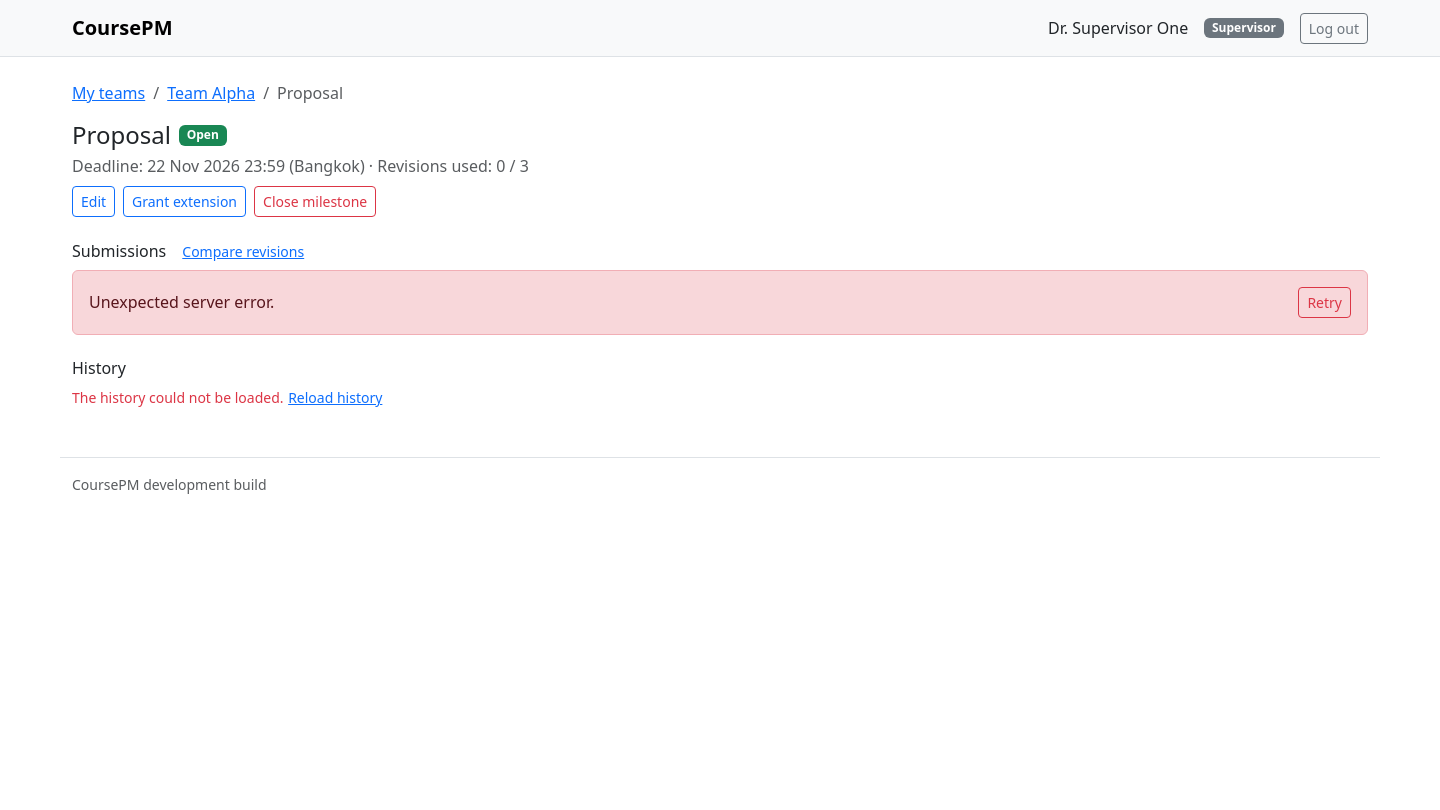
Test case: TEST-UI-04 submission part (AC-02-10): revision list states › shows an error with Retry, and Retry loads the revisions again
Expected: the message shows "Unexpected server error.", [89,291,274,313]
Click the button "Retry". click: (1325, 302)
box: [1298,287,1351,318]
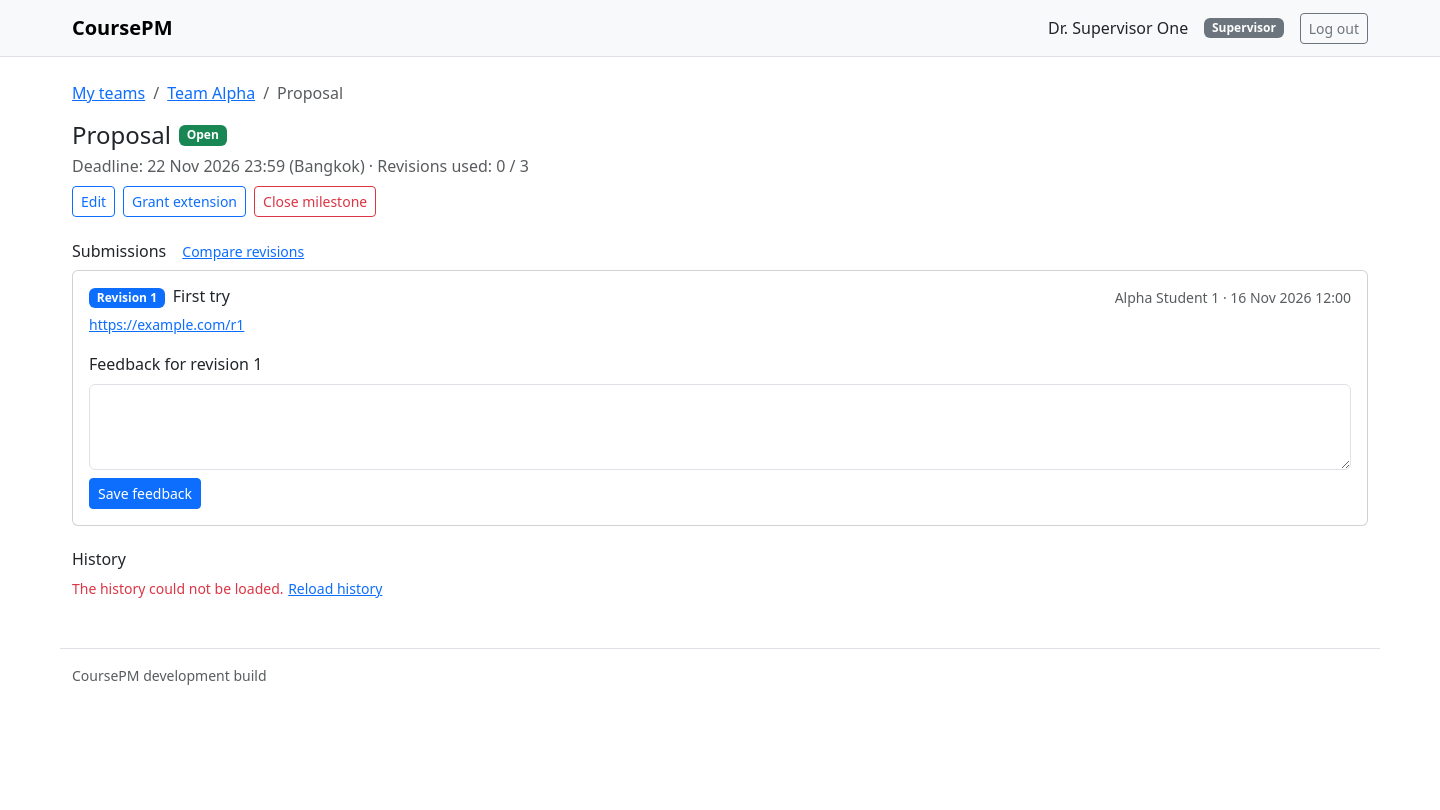
Result: the heading "Revision 1 First try" is shown at [89,287,230,308]
